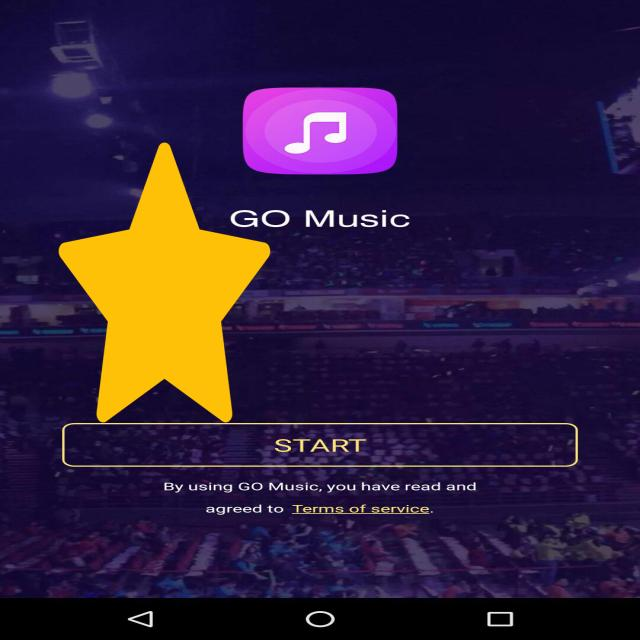forced continuity: (59, 142, 270, 423)
